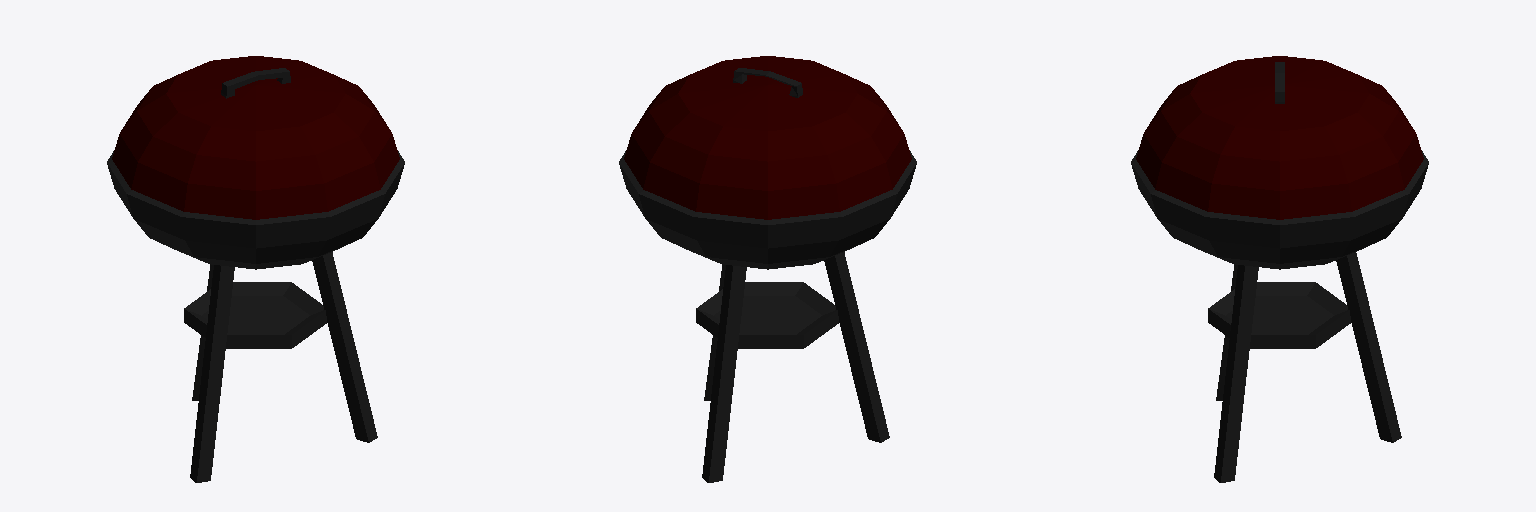
File: Grill1.obj
3 renders of one model, left to right at view 1: azimuth 30°, elevation 25°; view 2: azimuth 150°, elevation 25°; view 3: azimuth 270°, elevation 25°, orthographic.
Visible parts, largest first — view 1: Grill1_Cube.031; view 2: Grill1_Cube.031; view 3: Grill1_Cube.031.
Boxes of the visible parts, x1=… form: Grill1_Cube.031: x1=107, y1=56, x2=404, y2=482; Grill1_Cube.031: x1=619, y1=56, x2=916, y2=482; Grill1_Cube.031: x1=1131, y1=56, x2=1428, y2=482.
Bounding box in the file's own units: 0.9431 × 1.27 × 0.9431.